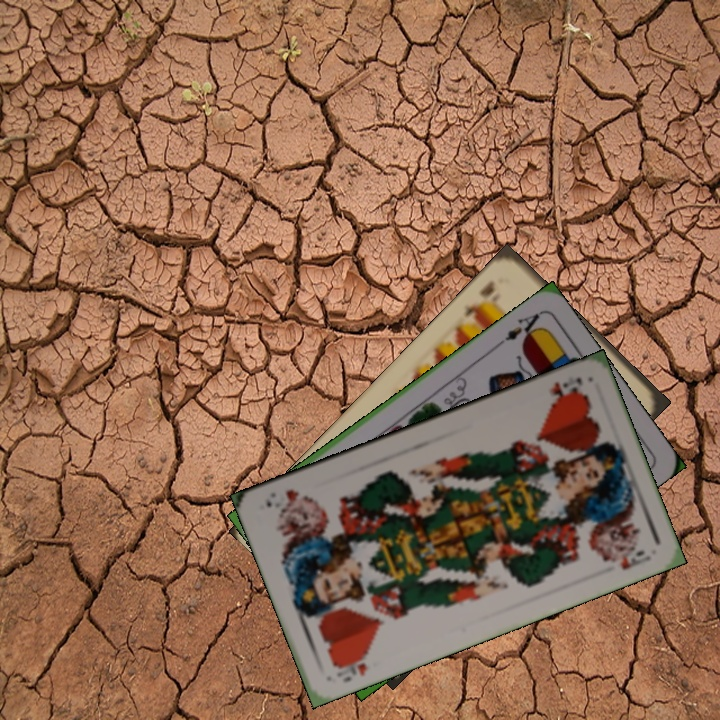E10: (460, 276, 503, 324)
EA: (493, 308, 545, 350)
HO: (329, 649, 371, 685), (545, 372, 585, 407)
